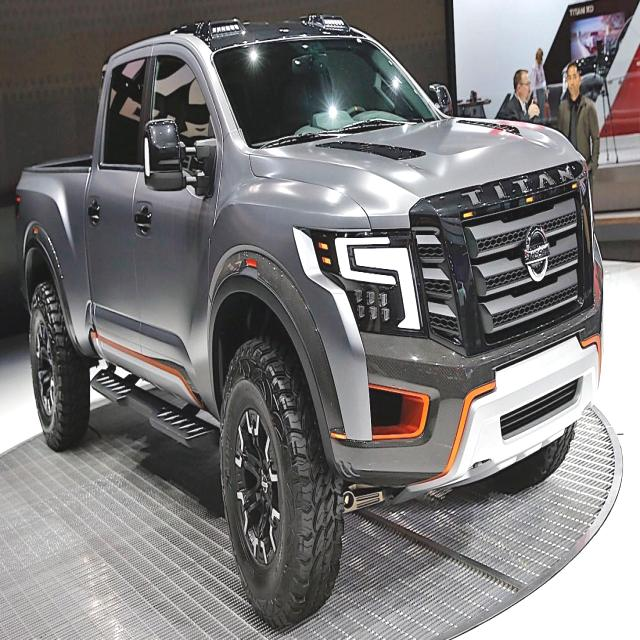CMT: (33, 34, 600, 522)
